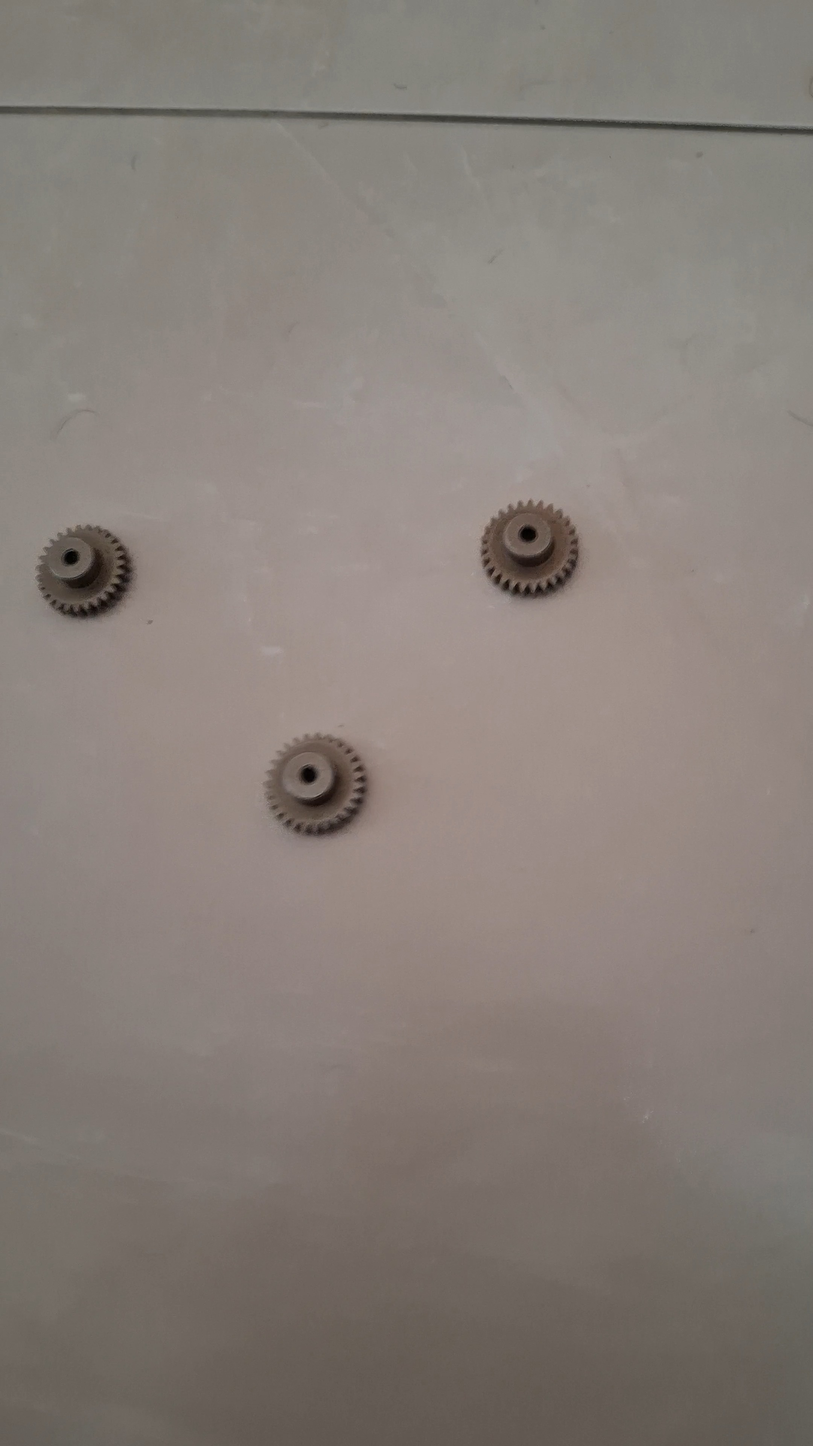spur gear: (265, 735, 366, 834), (481, 502, 578, 595), (37, 526, 130, 616)
